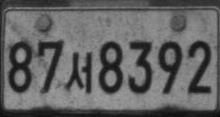2: (186, 39, 213, 94)
3: (126, 40, 153, 94)
7: (36, 40, 63, 93)
8: (7, 40, 34, 93), (97, 40, 123, 94)
9: (157, 40, 183, 94)
서: (66, 50, 92, 94)
